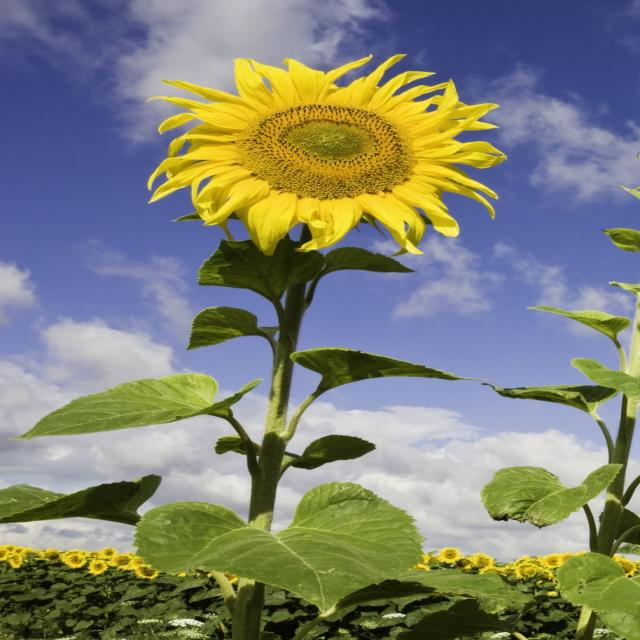sunflower: (147, 42, 486, 257)
